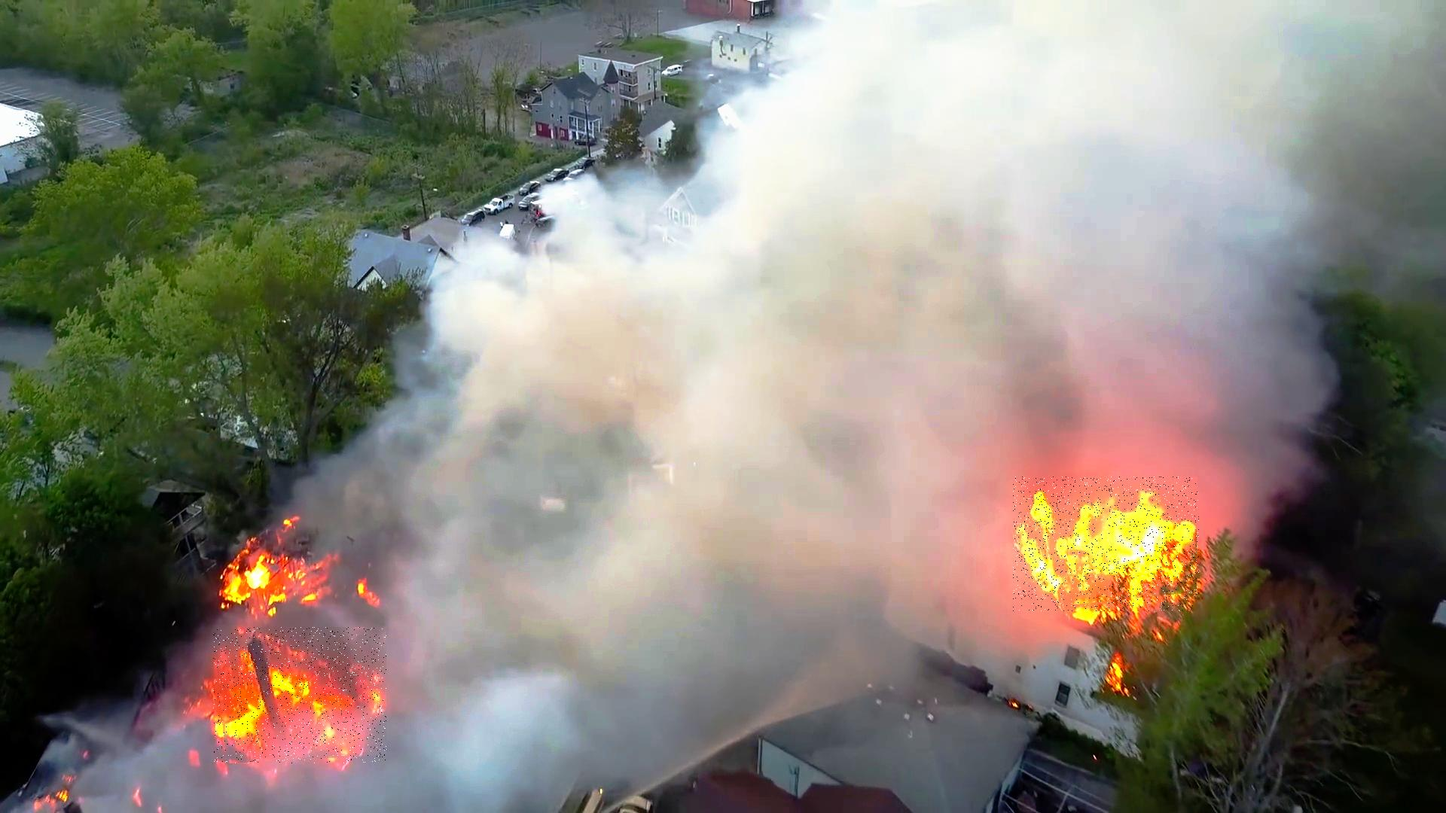fire: (1013, 477, 1199, 611), (213, 627, 386, 763), (344, 520, 345, 521)
